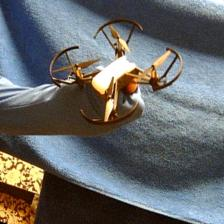drone: (47, 15, 184, 129)
